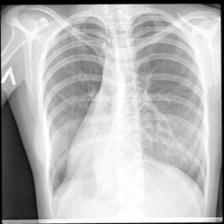tuberculosis: (31, 12, 209, 199)
